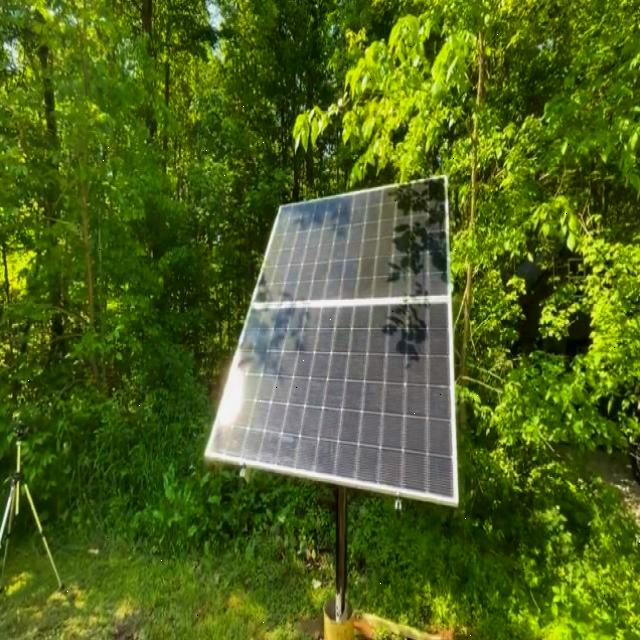Normal Solar Panel: (205, 296, 454, 506), (254, 178, 446, 302)
